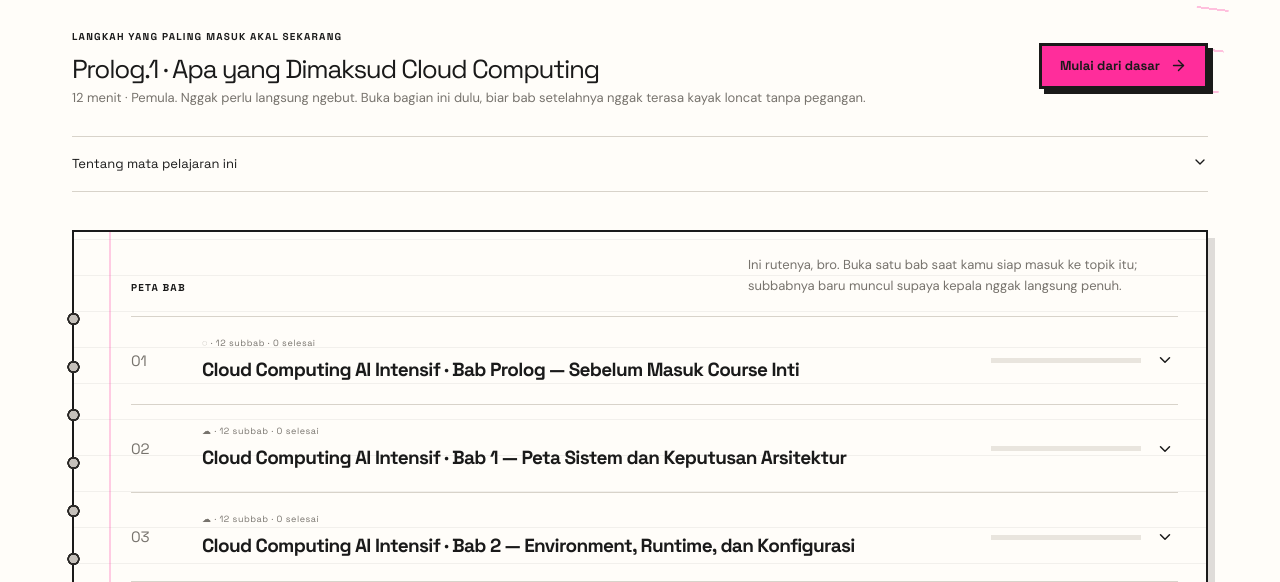
Scenario: Materials subject catalogue › reveals sublessons only after a learner opens a selected course chapter
(page scrolled)
Click the button "Bab Prolog" at x=654, y=360, box [131,317,1178,404]
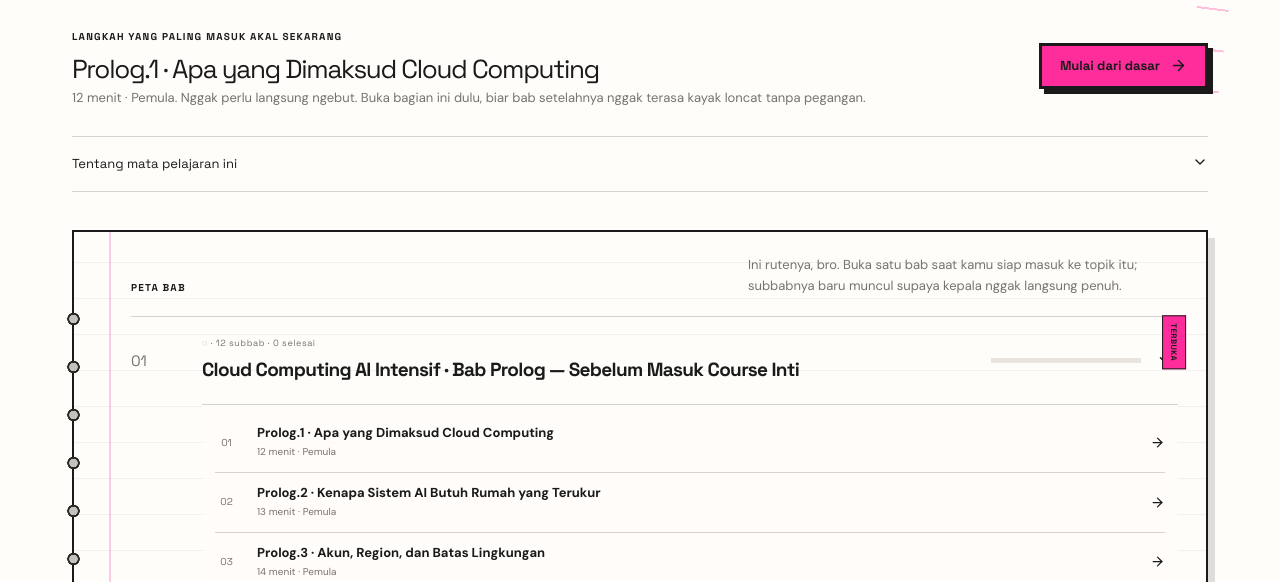
Result: the button "Bab Prolog" is expanded at [131,317,1178,404]
Result: the 2nd link is shown at [215,413,1165,473]
